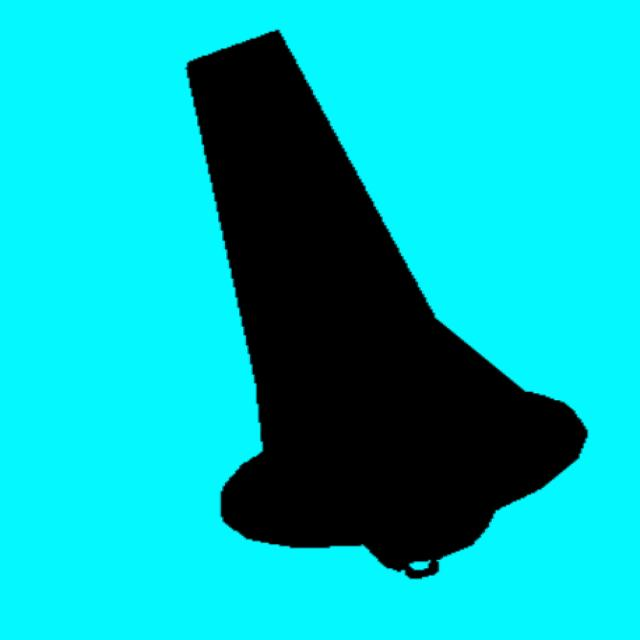BlackBuoy: (188, 32, 585, 578)
